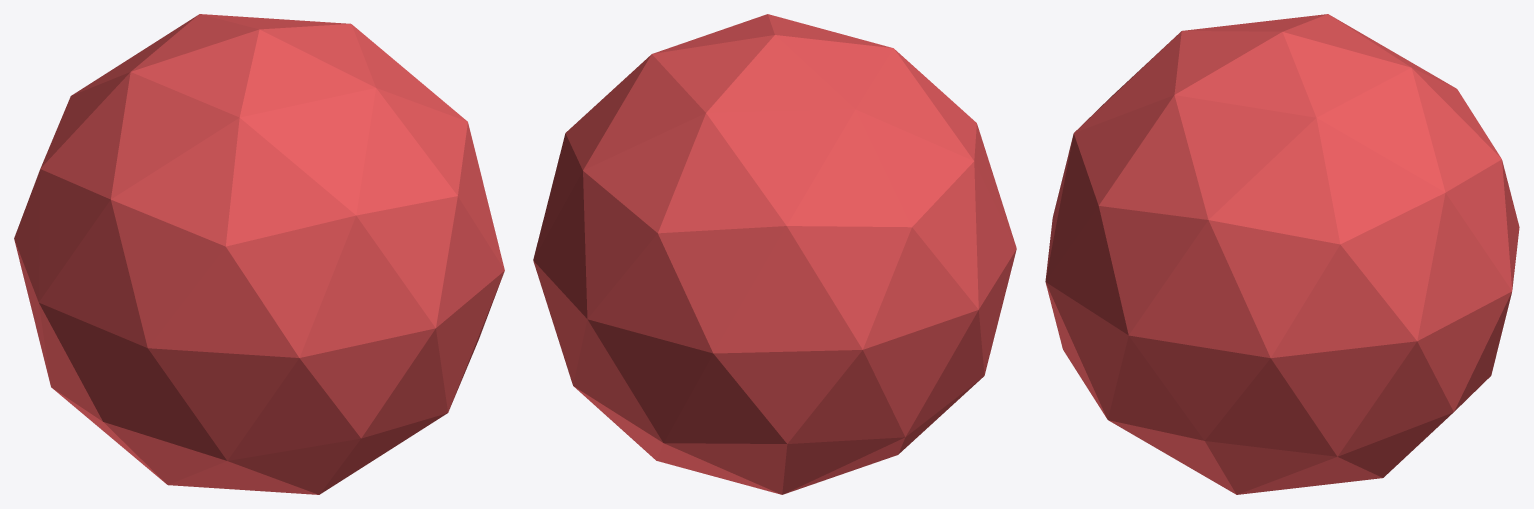
The model's file is leftHit.glb.
The picture shows the model from 3 angles, left to right: view 1: azimuth 30°, elevation 25°; view 2: azimuth 150°, elevation 25°; view 3: azimuth 270°, elevation 25°; orthographic projection. The views are drawn at different scales.
Parts seen in each view (by area): view 1: Icosphere; view 2: Icosphere; view 3: Icosphere.
Boxes of the visible parts, bbox=[...] form: Icosphere: bbox=[14, 14, 504, 494]; Icosphere: bbox=[533, 14, 1016, 494]; Icosphere: bbox=[1045, 14, 1519, 494].
Bounding box in the file's own units: 1.54 × 1.54 × 1.49.
